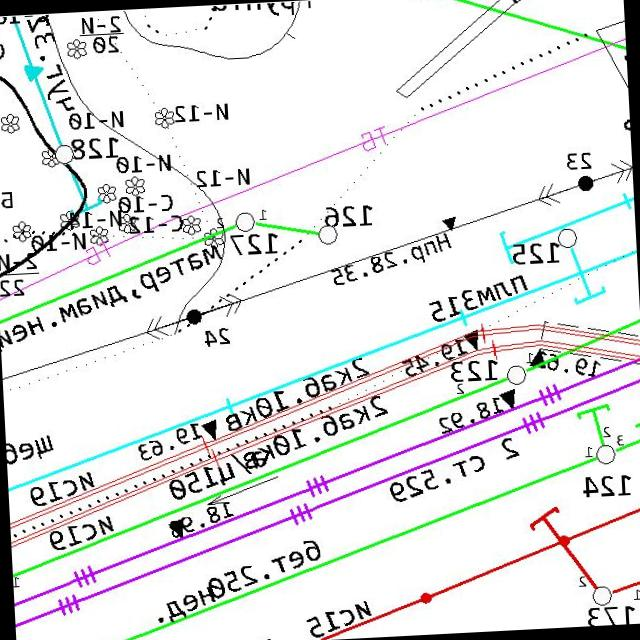bushes: (65, 37, 89, 61), (124, 174, 148, 198), (152, 106, 175, 130), (180, 213, 203, 237), (96, 182, 118, 206), (0, 111, 21, 136), (11, 220, 33, 243), (88, 224, 110, 247), (203, 227, 225, 250), (116, 212, 137, 235), (59, 208, 79, 232), (40, 148, 60, 168)
mark: (200, 418, 220, 444), (498, 388, 519, 412), (462, 328, 482, 353), (528, 348, 549, 370), (440, 214, 458, 234)
well: (504, 362, 528, 388), (594, 442, 618, 467), (590, 584, 615, 608), (316, 223, 340, 247), (556, 226, 580, 250), (234, 210, 256, 234), (54, 142, 76, 166)
